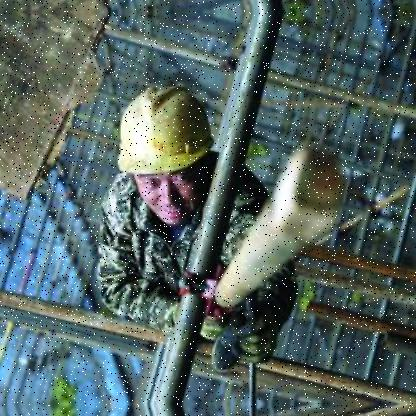helmet: (111, 71, 226, 224)
